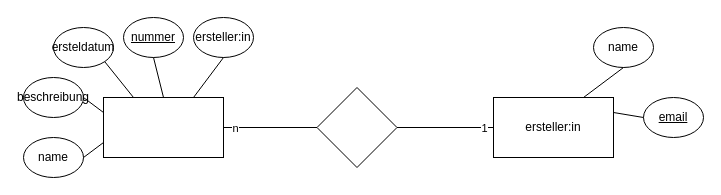
Image size: 721x195. Some labels were removed from this diagram. Each missing label, with the box of its shape:
besitzt: (316, 86, 397, 168)
wunschgericht: (102, 96, 224, 158)
